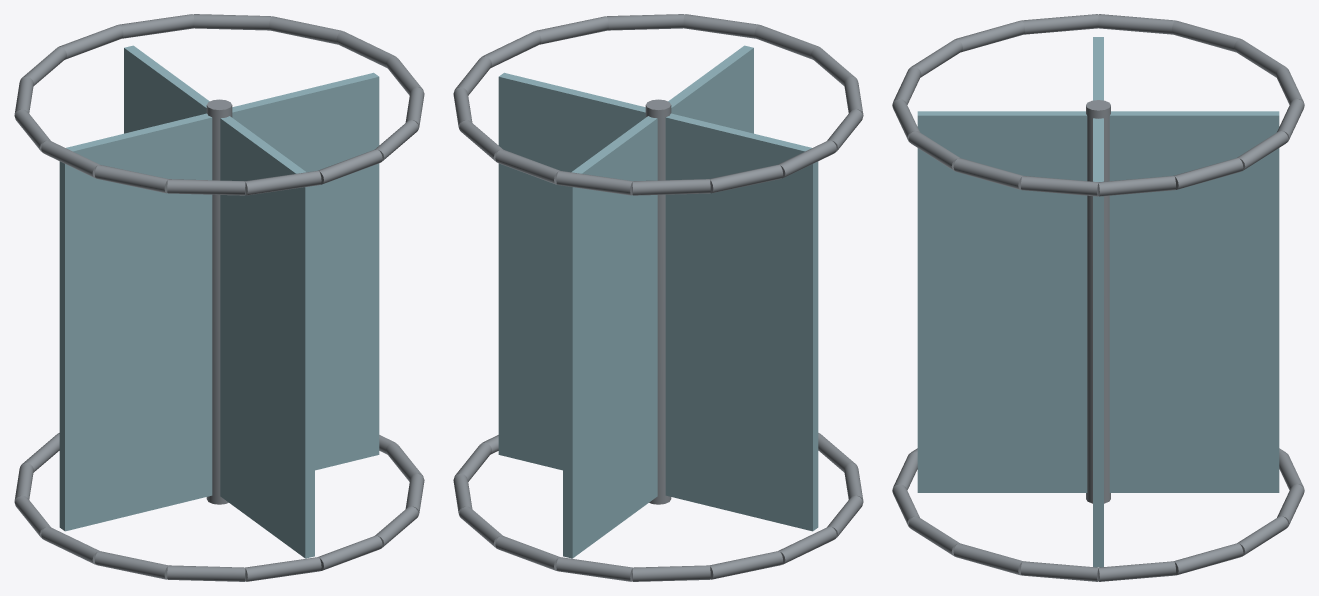
The model's file is revolving_door.glb.
3 renders of one model, left to right at view 1: azimuth 30°, elevation 25°; view 2: azimuth 150°, elevation 25°; view 3: azimuth 270°, elevation 25°, orthographic.
Visible parts, largest first — view 1: world; view 2: world; view 3: world.
Boxes of the visible parts, <box> form: world: <box>14,14,424,581</box>; world: <box>453,14,863,581</box>; world: <box>892,14,1304,581</box>.
Size of the model in its own units: 2.28 by 2.44 by 2.28.
